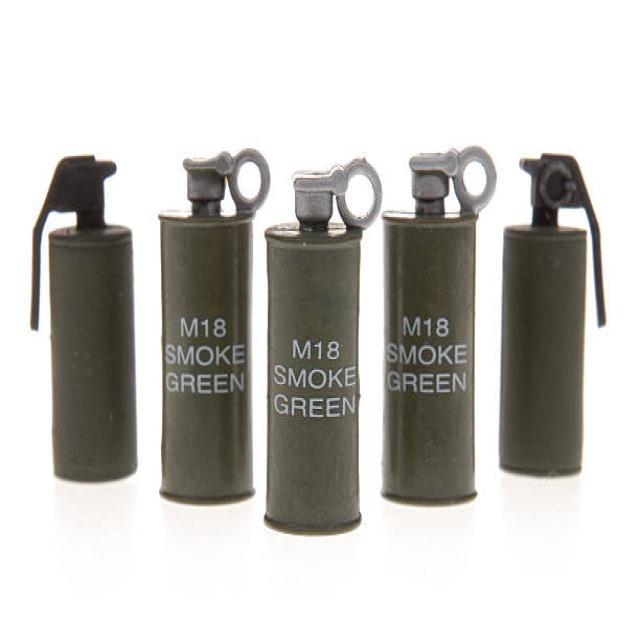grenade: (265, 155, 383, 543), (494, 143, 612, 489)
